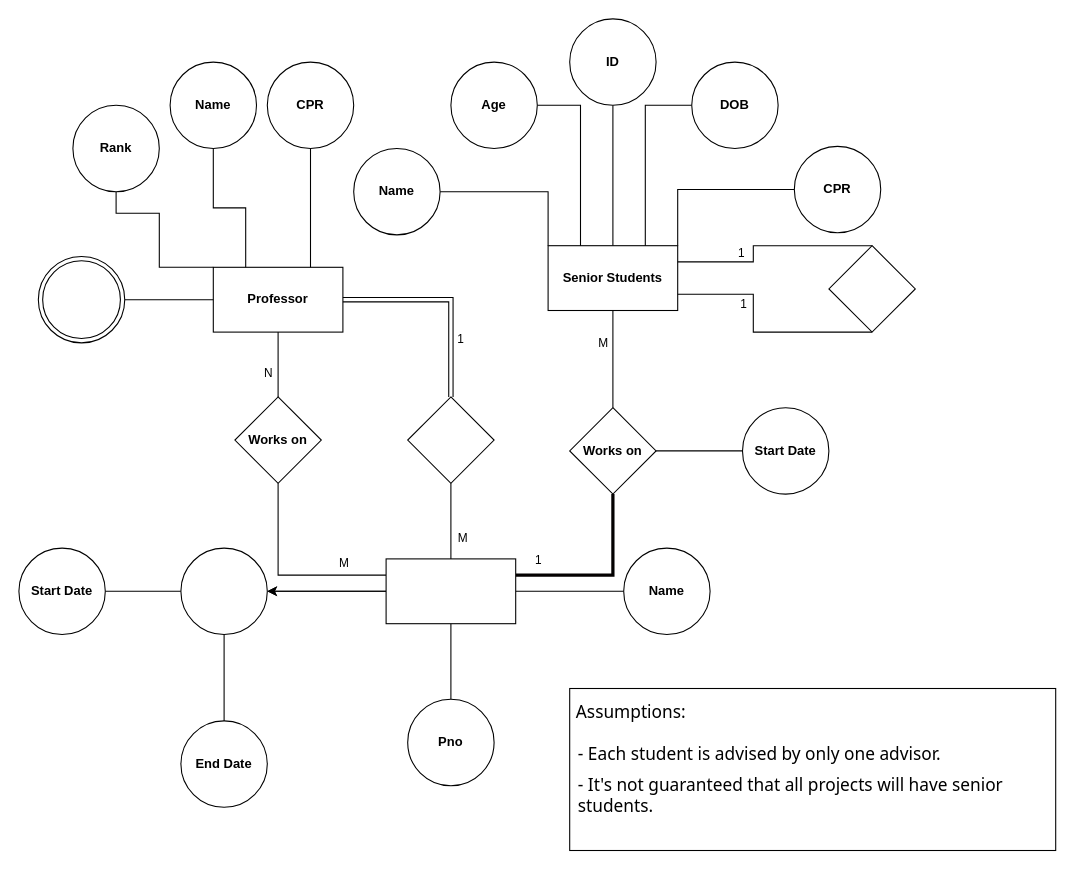
This 1075x869 diagram has some shape labels left out. Each missing label, with the centre of its shape:
"Advised By" belongs at point 871,288.
"Manages" belongs at point 450,439.
"Projest" belongs at point 450,591.
"Span" belongs at point 223,590.
"Spec" belongs at point 81,299.
